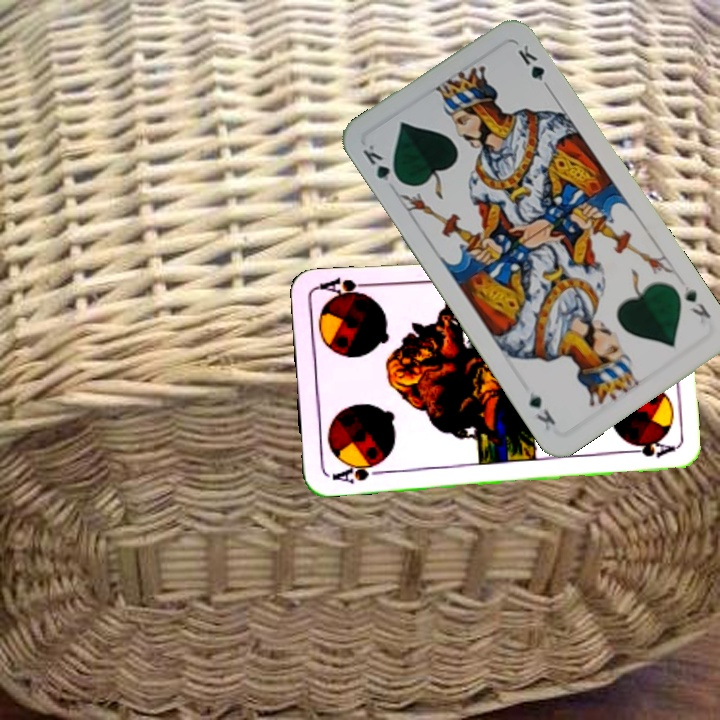GK: (358, 140, 404, 187), (680, 281, 714, 322)
SA: (328, 458, 386, 487)
